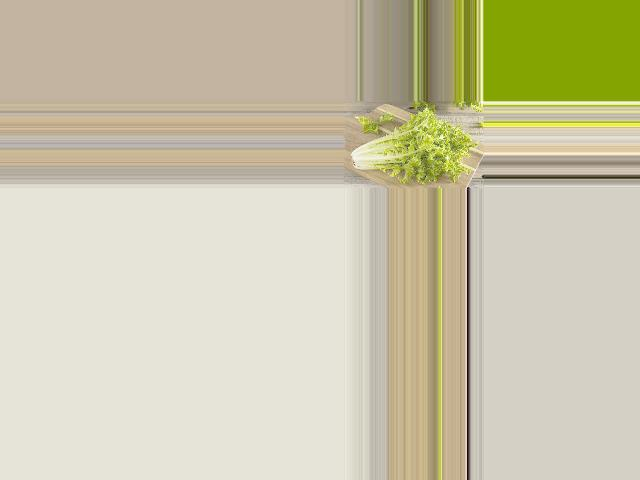lettuce: (344, 110, 471, 184)
